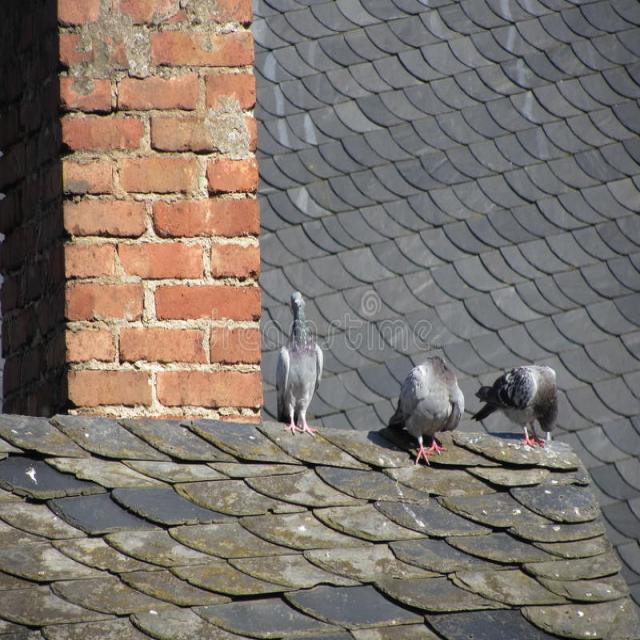bird: (382, 354, 467, 468), (467, 362, 560, 448), (274, 290, 325, 438)
